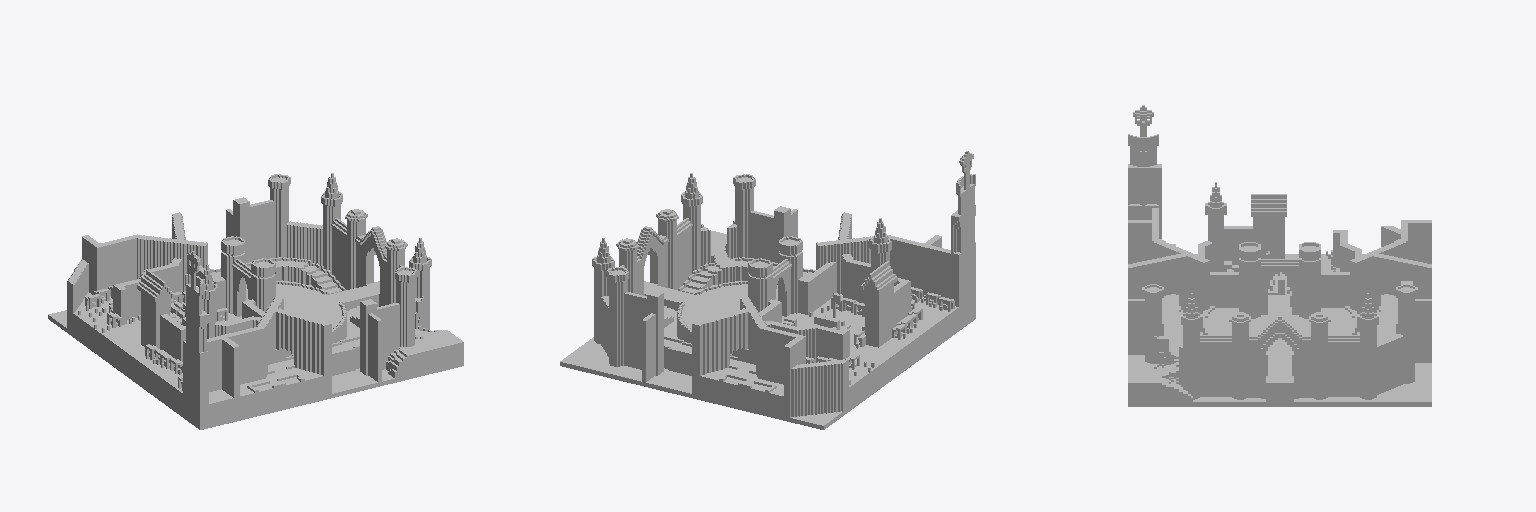
File: castle 3 2-8.obj
The picture shows the model from 3 angles: view 1: azimuth 30°, elevation 25°; view 2: azimuth 150°, elevation 25°; view 3: azimuth 270°, elevation 25°; orthographic projection.
Visible parts, largest first — view 1: object 1; view 2: object 1; view 3: object 1.
Boxes of the visible parts, <box> form: object 1: <box>48,173,463,429</box>; object 1: <box>560,151,975,429</box>; object 1: <box>1128,105,1431,406</box>.
Size of the model in its own units: 12.6 by 7.9 by 12.6.